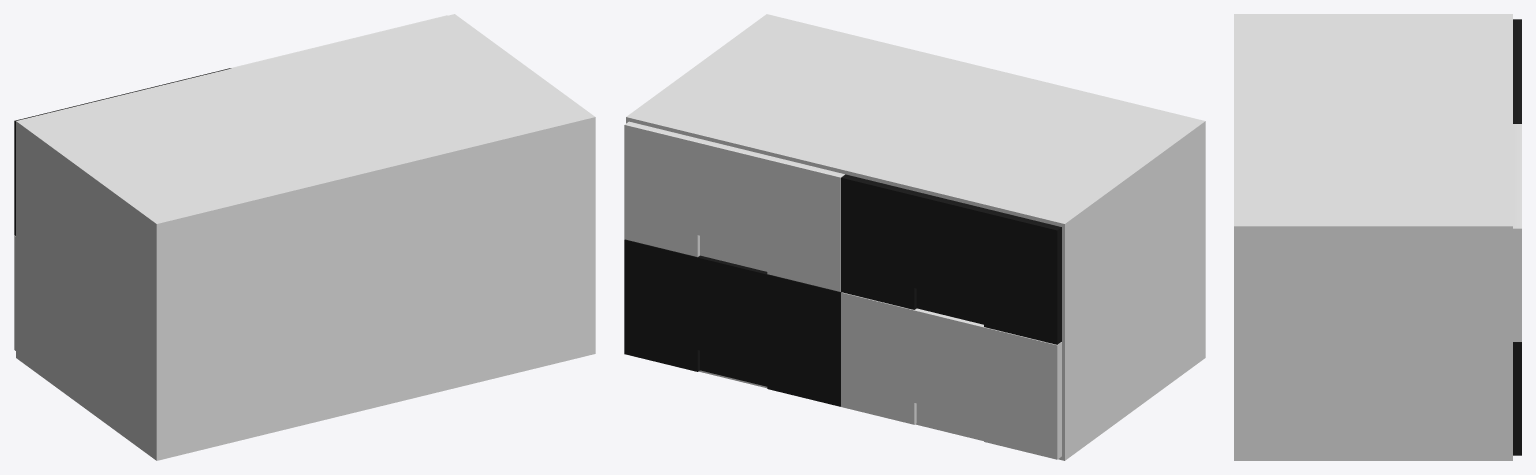
Rendered from Drawer30.glb.
The picture shows the model from 3 angles, left to right: view 1: azimuth 30°, elevation 25°; view 2: azimuth 150°, elevation 25°; view 3: azimuth 270°, elevation 25°; orthographic projection.
Parts seen in each view (by area): view 1: Drawer30_Body; view 2: Drawer30_Body, Drawer30_2, Drawer30_1, Drawer30_4, Drawer30_3; view 3: Drawer30_Body, Drawer30_1, Drawer30_3, Drawer30_2.
Boxes of the visible parts, box(x1,y1,x2,y2) form: Drawer30_Body: box(16, 14, 595, 460); Drawer30_Body: box(626, 14, 1205, 460); Drawer30_2: box(841, 174, 1061, 344); Drawer30_1: box(624, 121, 844, 291); Drawer30_4: box(841, 292, 1061, 459); Drawer30_3: box(624, 239, 841, 406); Drawer30_Body: box(1234, 14, 1512, 460); Drawer30_1: box(1513, 124, 1521, 341); Drawer30_3: box(1513, 342, 1521, 455); Drawer30_2: box(1513, 19, 1521, 123).
Size of the model in its own units: 1.71 by 0.8825 by 0.9811.
Materials: 1 (1 with a texture image).
